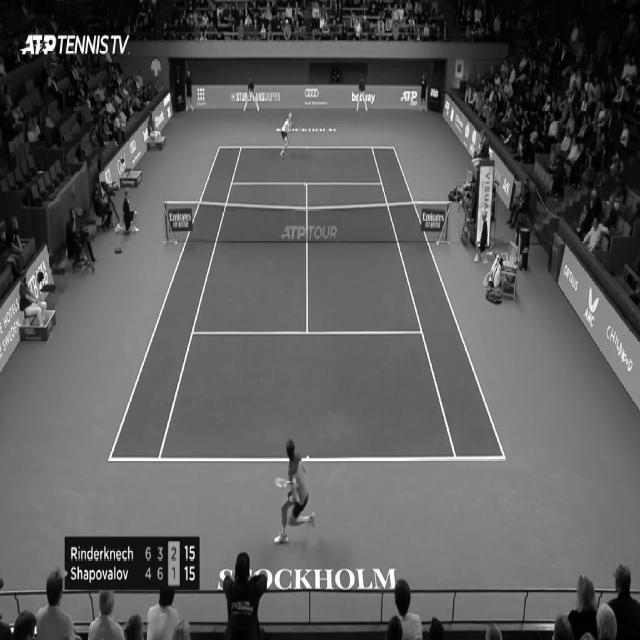tennis-court: (107, 146, 507, 461)
